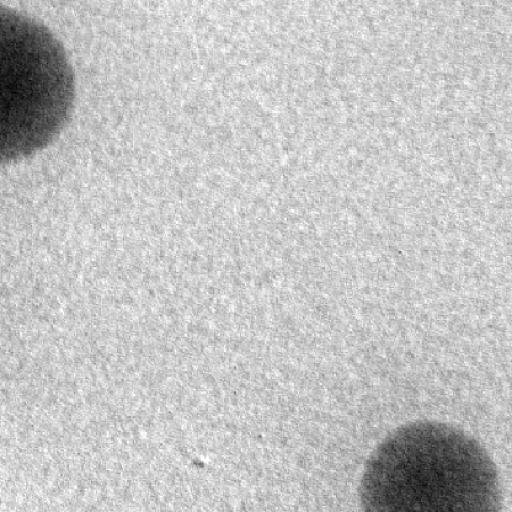Nanoparticles: (357, 418, 506, 512), (0, 0, 79, 176)
